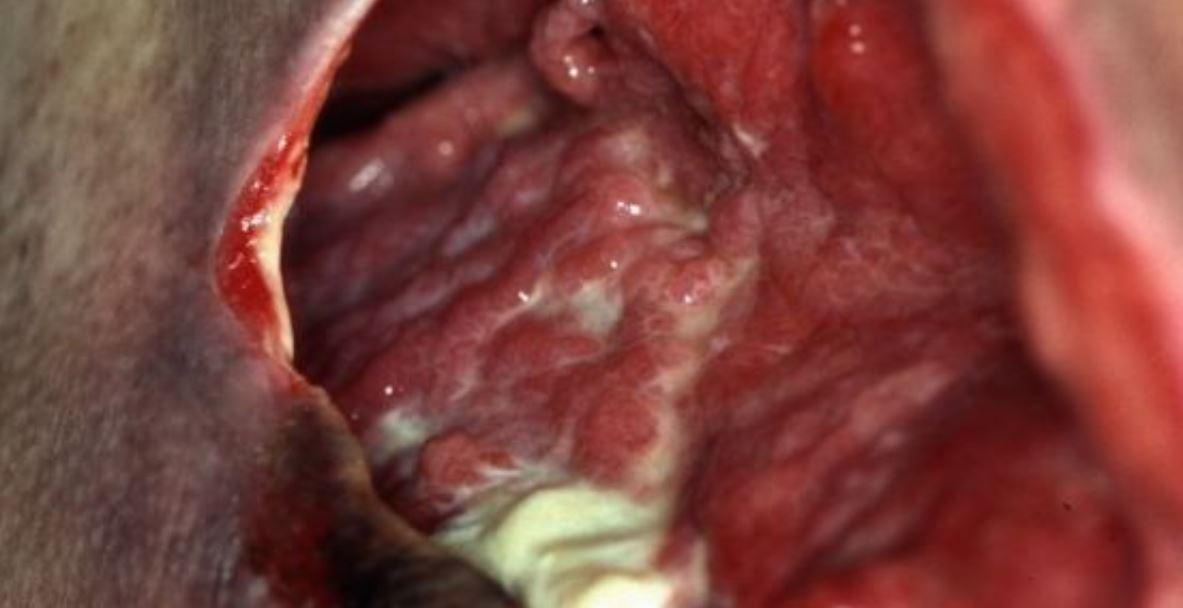Stage4: (193, 4, 1138, 576)
